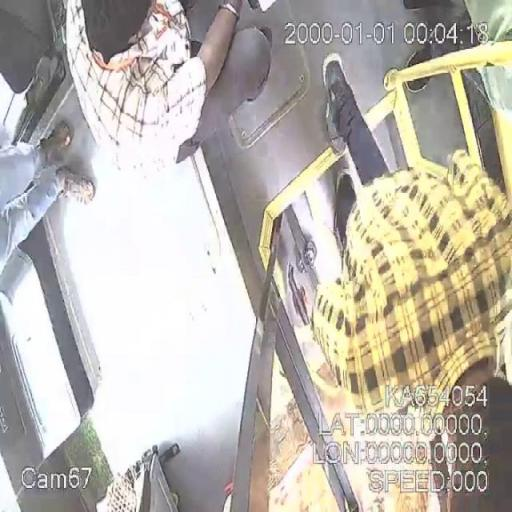persona: (309, 50, 511, 418), (63, 0, 248, 175), (0, 118, 96, 305)
